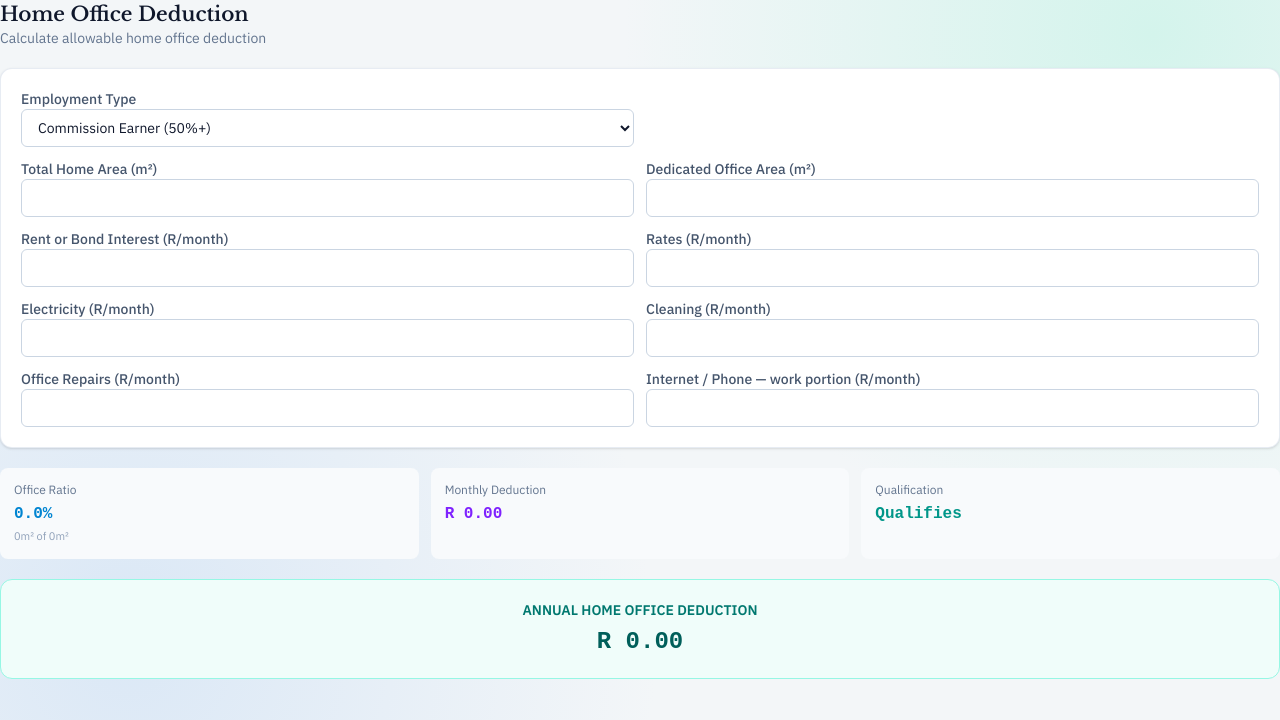
Scenario: HomeOfficeTab (CALC-05: SARS floor-area apportionment + s23(b)/s23(m) regression) › keeps the conservative salaried-employee policy (Unlikely / R0) with accurate s23(b)/s23(m) warning copy
The image size is (1280, 720).
Select "Salaried Employee" in the dropdown labelled "Employment Type" at [328, 128], box [21,109,634,147]
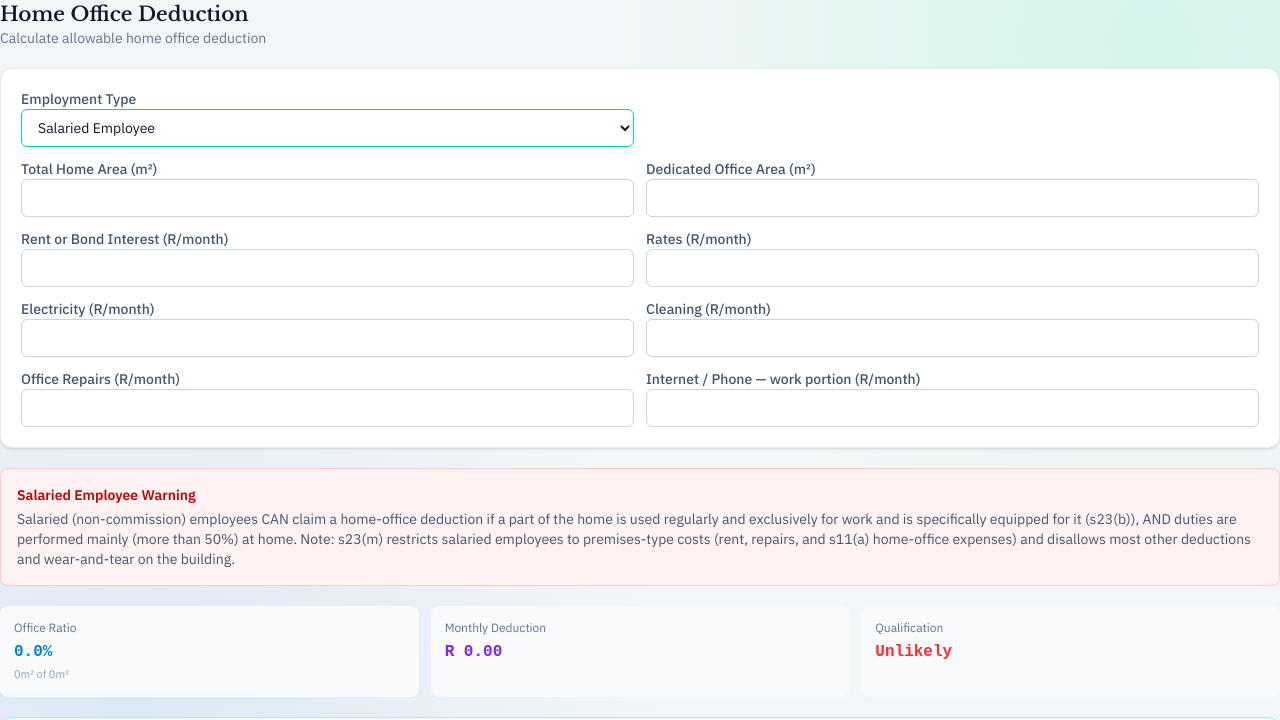
Now the text "Unlikely" is shown, box [875,643,952,661]
Now the text "s23(m)" is shown, box [17,510,1251,568]
